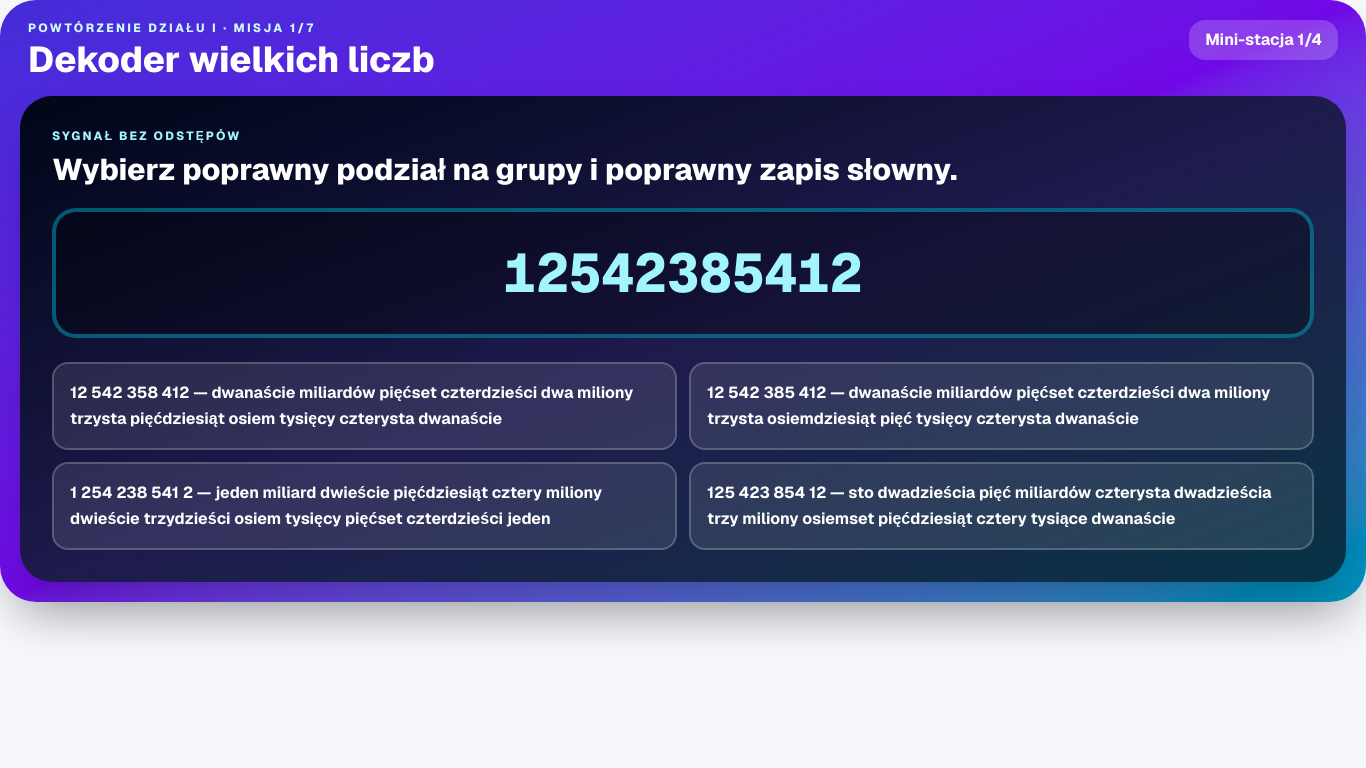
Test: SectionOneReviewLessonModel › dekoder przyjmuje poprawne grupowanie i zapis słowny
The width and height of the screenshot is (1366, 768).
Click the button named "12 542 385 412 — dwanaście miliardów pięćset czterdzieści dwa miliony trzysta osiemdziesiąt pięć tysięcy czterysta dwana".
click(1002, 406)  # box [689,362,1314,450]
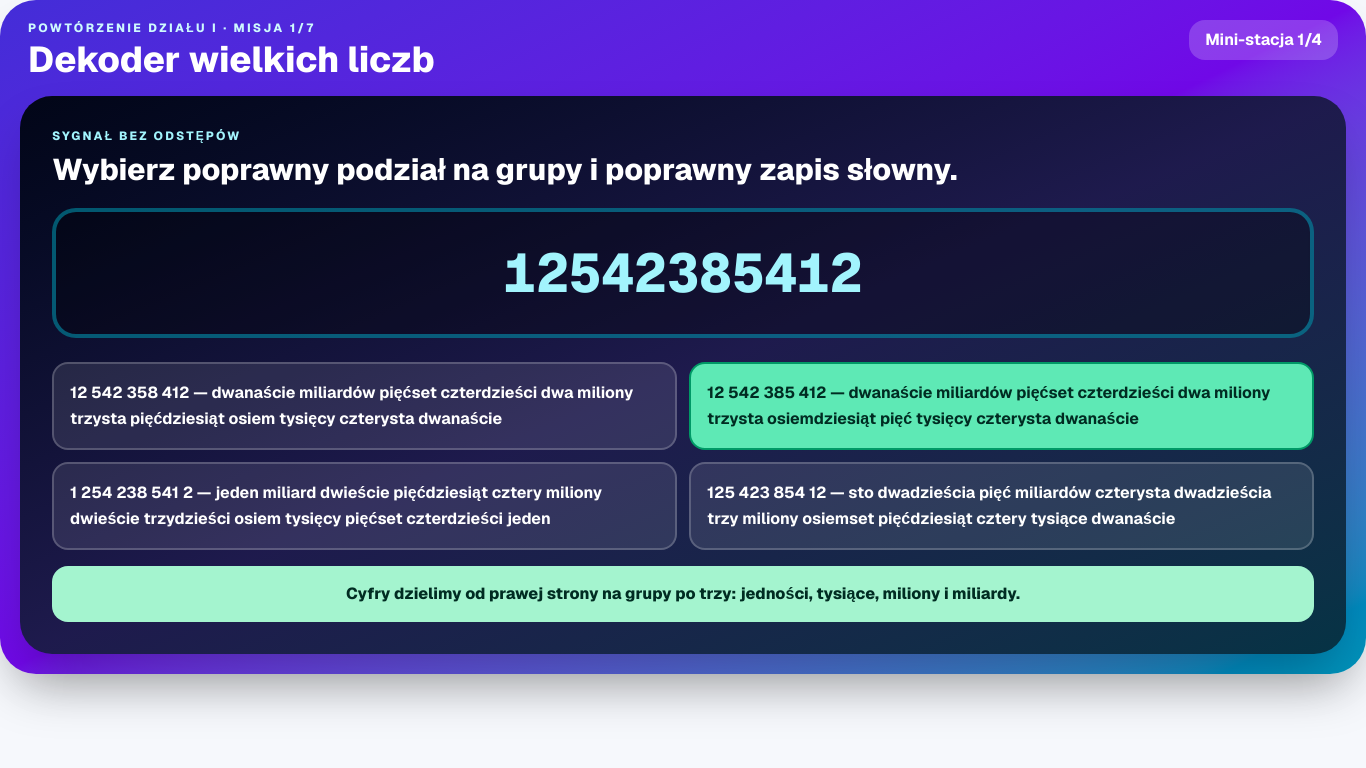
Now the message shows "grupy po trzy", box [346,583,1020,604]
